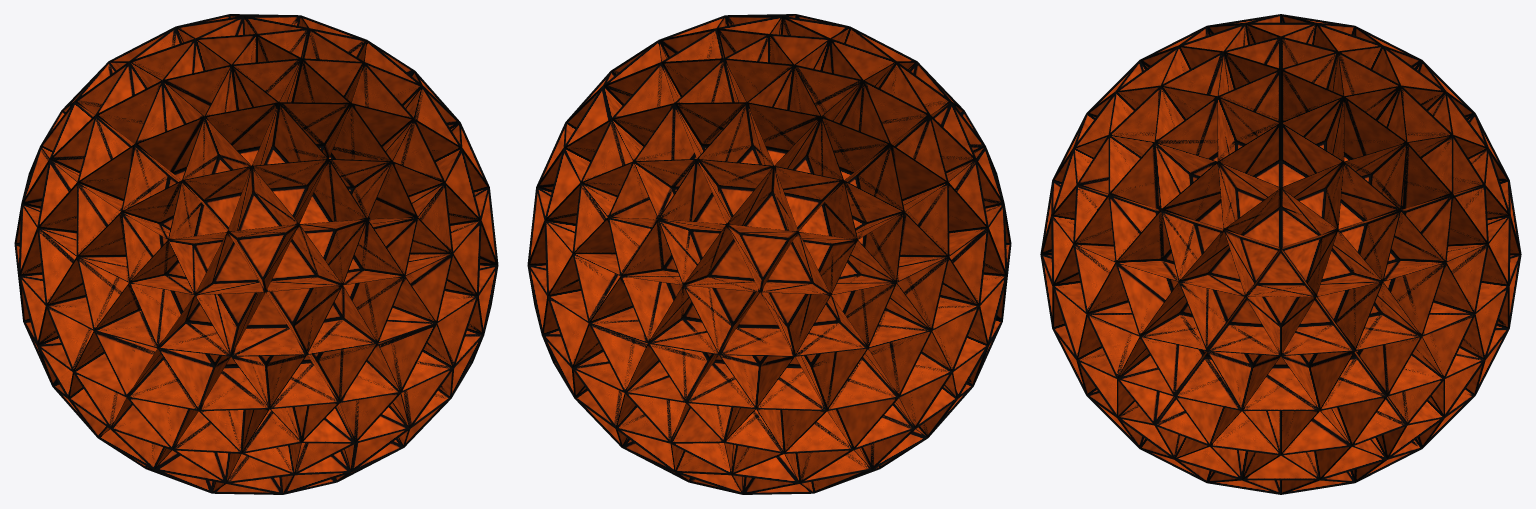
The picture shows the model from 3 angles, left to right: view 1: azimuth 30°, elevation 25°; view 2: azimuth 150°, elevation 25°; view 3: azimuth 270°, elevation 25°; orthographic projection.
Visible parts, largest first — view 1: ico-layer1-col.239, ico-layer1-col.149, ico-layer1-col.045, ico-layer1-col.035, ico-layer1-col.068, ico-layer1-col.158, ico-layer1-col.154, ico-layer1-col.235, ico-layer1-col.194, ico-layer1-col.063, ico-layer1-col.047, ico-layer1-col.137 (+124 smaller); view 2: ico-layer1-col.138, ico-layer1-col.173, ico-layer1-col.224, ico-layer1-col.123, ico-layer1-col.229, ico-layer1-col.186, ico-layer1-col.169, ico-layer1-col.119, ico-layer1-col.127, ico-layer1-col.226, ico-layer1-col.219, ico-layer1-col.174 (+122 smaller); view 3: ico-layer1-col.038, ico-layer1-col.114, ico-layer1-col.007, ico-layer1-col.036, ico-layer1-col.018, ico-layer1-col.163, ico-layer1-col.107, ico-layer1-col.011, ico-layer1-col.028, ico-layer1-col.009, ico-layer1-col.001, ico-layer1-col.060 (+121 smaller).
Part boxes in pixels (left/top/right/bottom): ico-layer1-col.239: left=127, top=348, right=214, bottom=410; ico-layer1-col.149: left=204, top=65, right=278, bottom=151; ico-layer1-col.045: left=231, top=326, right=306, bottom=408; ico-layer1-col.035: left=331, top=103, right=414, bottom=161; ico-layer1-col.068: left=352, top=276, right=436, bottom=343; ico-layer1-col.158: left=252, top=159, right=328, bottom=225; ico-layer1-col.154: left=252, top=102, right=328, bottom=189; ico-layer1-col.235: left=73, top=331, right=156, bottom=397; ico-layer1-col.194: left=46, top=257, right=128, bottom=330; ico-layer1-col.063: left=199, top=355, right=269, bottom=411; ico-layer1-col.047: left=266, top=276, right=342, bottom=353; ico-layer1-col.137: left=162, top=64, right=237, bottom=121; ico-layer1-col.138: left=821, top=80, right=890, bottom=173; ico-layer1-col.173: left=648, top=285, right=732, bottom=354; ico-layer1-col.224: left=811, top=348, right=898, bottom=411; ico-layer1-col.123: left=675, top=102, right=753, bottom=162; ico-layer1-col.229: left=828, top=358, right=899, bottom=449; ico-layer1-col.186: left=864, top=212, right=948, bottom=281; ico-layer1-col.169: left=621, top=270, right=691, bottom=342; ico-layer1-col.119: left=674, top=59, right=746, bottom=146; ico-layer1-col.127: left=633, top=159, right=712, bottom=221; ico-layer1-col.226: left=869, top=331, right=952, bottom=397; ico-layer1-col.219: left=787, top=294, right=867, bottom=356; ico-layer1-col.174: left=683, top=277, right=759, bottom=353; ico-layer1-col.038: left=1217, top=96, right=1280, bottom=176; ico-layer1-col.114: left=1341, top=143, right=1406, bottom=220; ico-layer1-col.007: left=1375, top=260, right=1446, bottom=336; ico-layer1-col.036: left=1154, top=86, right=1217, bottom=158; ico-layer1-col.018: left=1175, top=351, right=1252, bottom=410; ico-layer1-col.163: left=1391, top=194, right=1453, bottom=261; ico-layer1-col.107: left=1281, top=69, right=1343, bottom=144; ico-layer1-col.011: left=1140, top=313, right=1206, bottom=396; ico-layer1-col.028: left=1281, top=123, right=1343, bottom=199; ico-layer1-col.009: left=1389, top=262, right=1475, bottom=336; ico-layer1-col.001: left=1161, top=161, right=1238, bottom=230; ico-layer1-col.060: left=1086, top=262, right=1172, bottom=336.
Bounding box in the file's own units: 66.86 × 66.86 × 66.86.
Materials: 1 (1 with a texture image).
